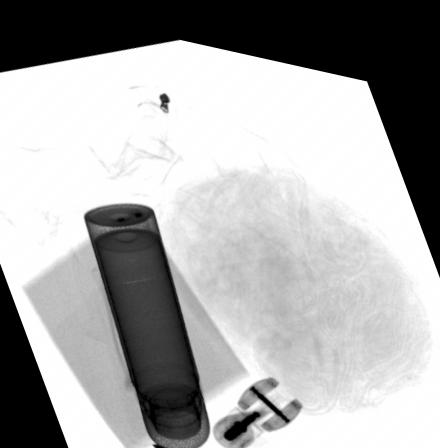Bullet: (149, 436, 186, 448)
